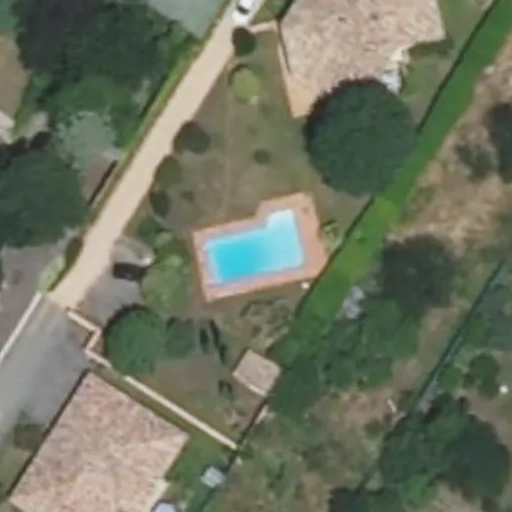pool: (204, 223, 304, 260)
